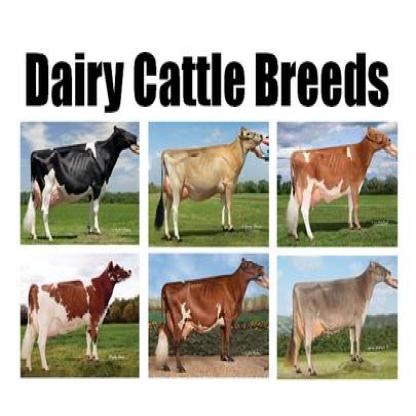cow: (22, 125, 136, 240), (21, 259, 130, 372), (157, 258, 263, 372), (156, 127, 260, 240), (288, 262, 391, 374), (288, 129, 391, 239)
